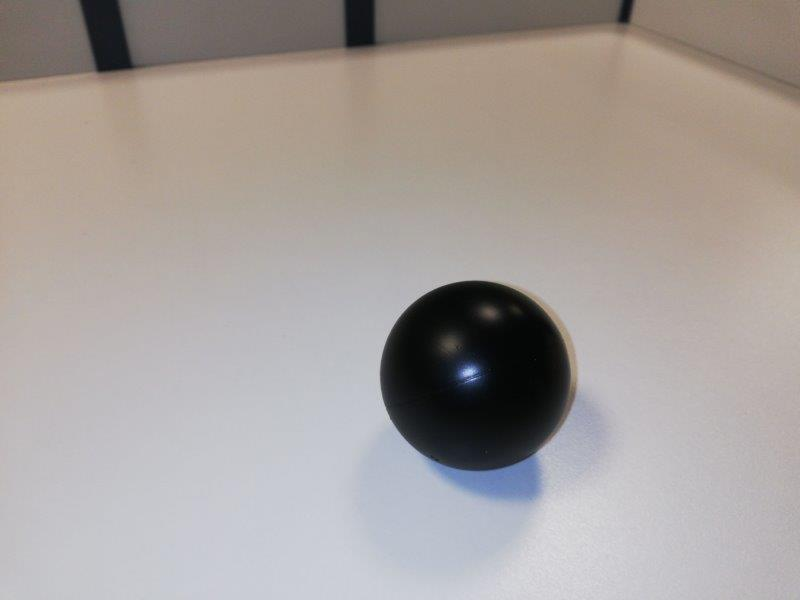nera: (377, 277, 579, 474)
